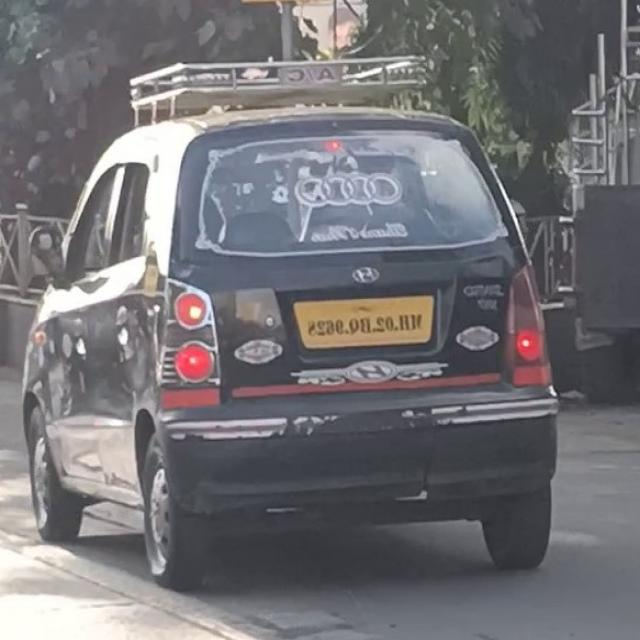license_plate: (287, 292, 438, 358)
